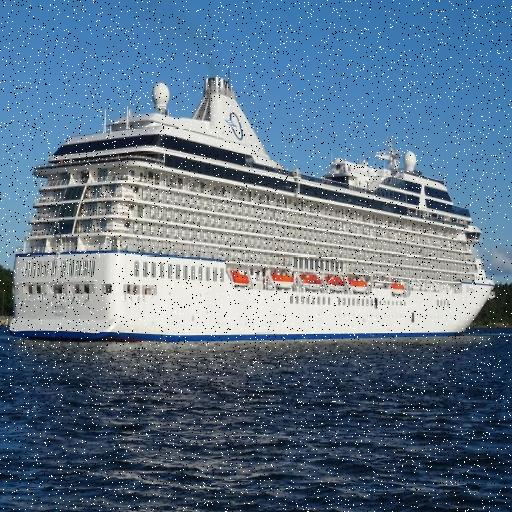cruises: (6, 71, 501, 348)
